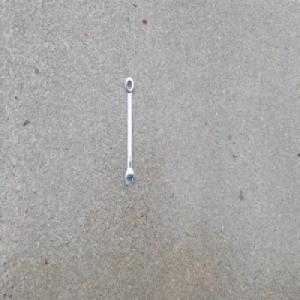Wrench: (123, 75, 135, 187)
